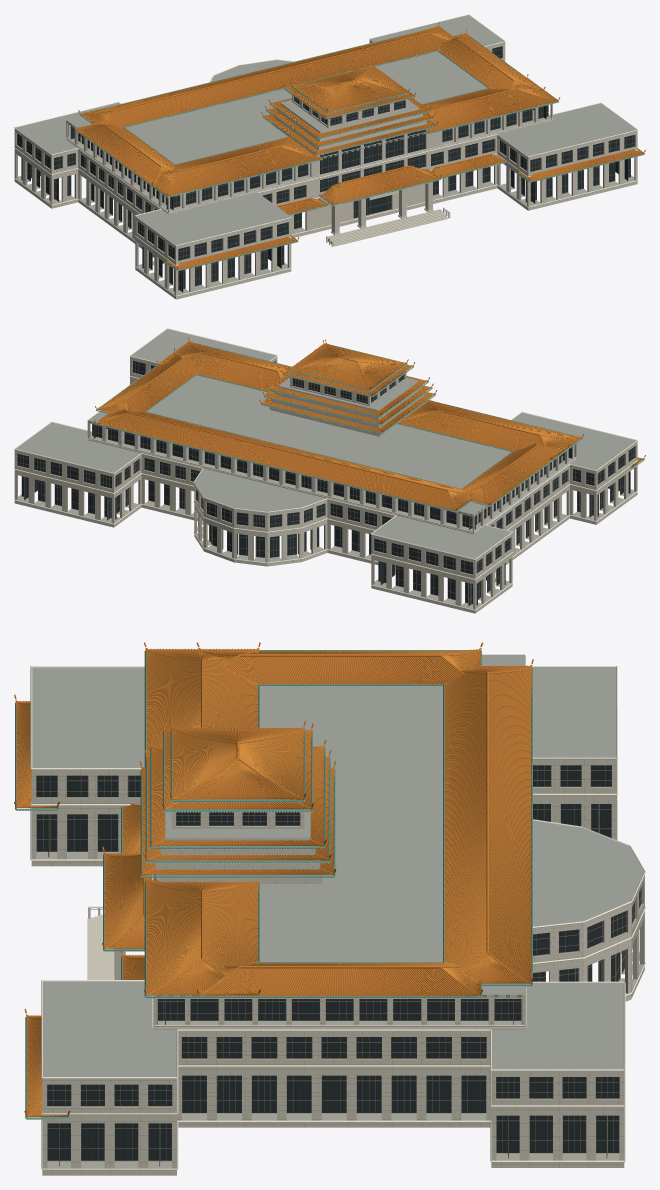
File: art-detail.glb
3 renders of one model, top to bottom at view 1: azimuth 30°, elevation 25°; view 2: azimuth 150°, elevation 25°; view 3: azimuth 270°, elevation 25°, orthographic. The views are drawn at different scales.
Visible parts, largest first — view 1: art tile.001, art roof.001, art stone.001, art flatRoof.001, art glass.001, art reveal.001, art frame.001, art white.001, art frieze.001, art ridge.001, art joint; view 2: art flatRoof.001, art tile.001, art stone.001, art roof.001, art glass.001, art reveal.001, art frame.001, art white.001, art frieze.001, art ridge.001, art joint; view 3: art flatRoof.001, art tile.001, art stone.001, art roof.001, art glass.001, art frame.001, art white.001, art frieze.001, art reveal.001, art ridge.001, art joint.
Boxes of the visible parts, box(x1,y1,x2,y2) form: art tile.001: box(75, 26, 643, 269); art roof.001: box(77, 26, 643, 269); art stone.001: box(14, 40, 637, 299); art flatRoof.001: box(15, 15, 636, 245); art glass.001: box(17, 46, 634, 291); art reveal.001: box(15, 46, 635, 294); art frame.001: box(17, 46, 634, 292); art white.001: box(14, 14, 642, 296); art frieze.001: box(67, 29, 644, 270); art ridge.001: box(73, 22, 645, 269); art joint: box(36, 43, 636, 298); art flatRoof.001: box(15, 329, 636, 558); art tile.001: box(96, 341, 643, 510); art stone.001: box(14, 356, 637, 613); art roof.001: box(96, 341, 639, 510); art glass.001: box(17, 361, 634, 605); art reveal.001: box(16, 360, 636, 608); art frame.001: box(17, 361, 635, 606); art white.001: box(14, 328, 644, 610); art frieze.001: box(89, 343, 644, 515); art ridge.001: box(94, 337, 645, 510); art joint: box(17, 359, 620, 609); art flatRoof.001: box(32, 654, 643, 1076); art tile.001: box(15, 648, 532, 1116); art stone.001: box(31, 759, 644, 1175); art roof.001: box(16, 649, 531, 1116); art glass.001: box(36, 765, 641, 1160); art frame.001: box(36, 765, 641, 1166); art white.001: box(15, 658, 645, 1170); art frieze.001: box(15, 650, 532, 1119); art reveal.001: box(36, 787, 643, 1168); art ridge.001: box(14, 642, 533, 1116); art joint: box(32, 759, 644, 1175).
Size of the model in its own units: 1.41 by 0.35 by 0.9051.
